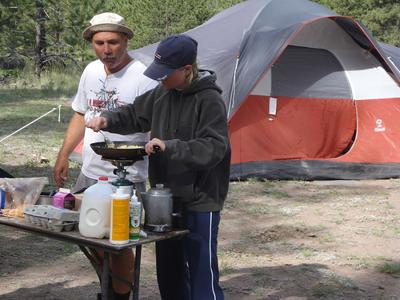person: (87, 38, 231, 300)
